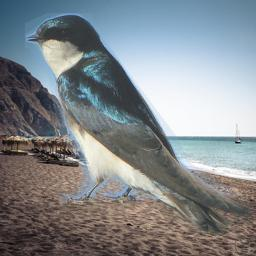Swallow: (25, 13, 254, 235)
